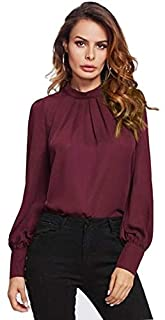tops: (4, 76, 155, 280)
